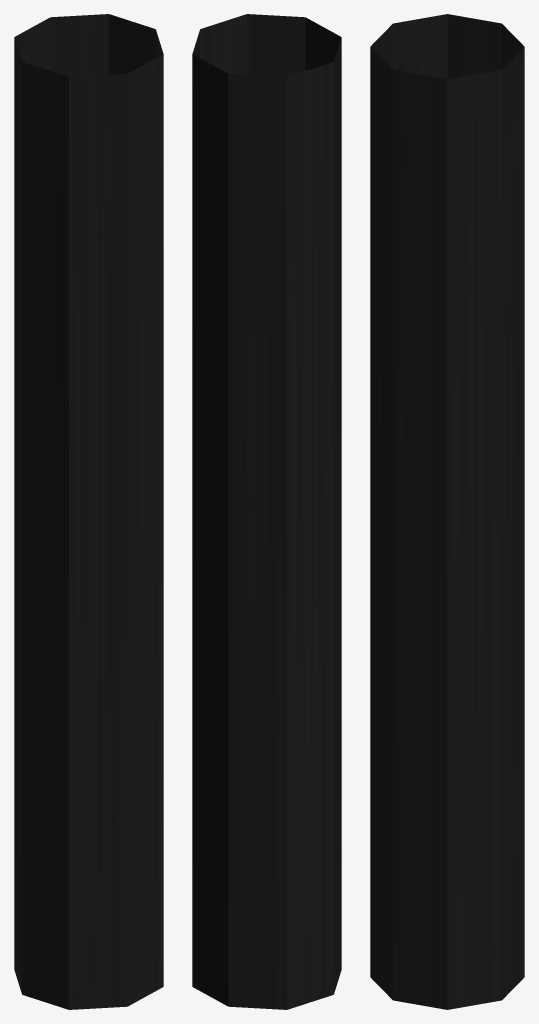
File: cell_72.obj
3 views of the same model, side by side, from view 1: azimuth 30°, elevation 25°; view 2: azimuth 150°, elevation 25°; view 3: azimuth 270°, elevation 25° (orthographic).
Bounding box in the file's own units: 0.15 × 1 × 0.15.
